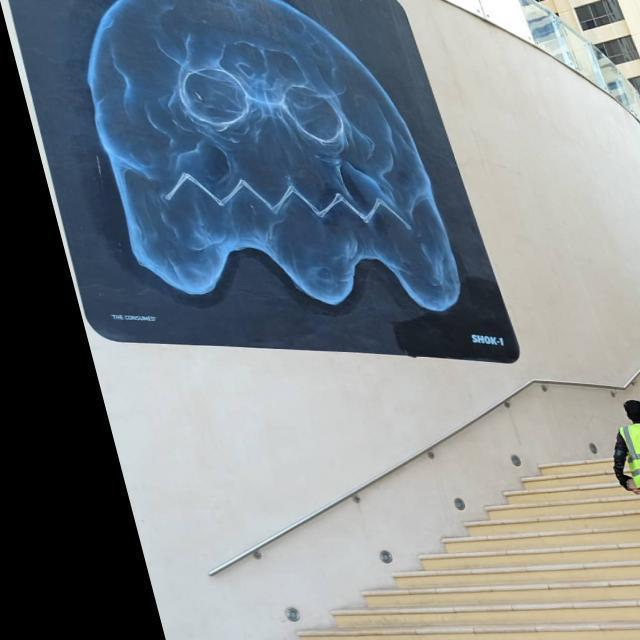-: (48, 0, 474, 317)
